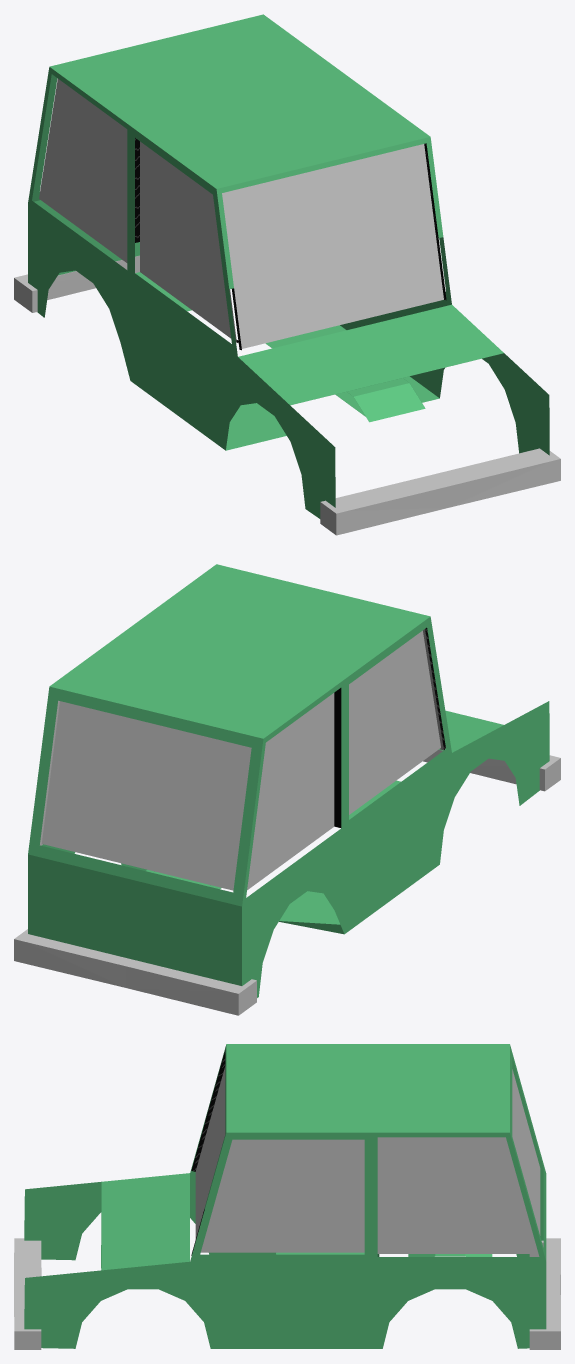
Rendered from box_car.obj.
3 renders of one model, top to bottom at view 1: azimuth 30°, elevation 25°; view 2: azimuth 150°, elevation 25°; view 3: azimuth 270°, elevation 25°, orthographic. The views are drawn at different scales.
Visible parts, largest first — view 1: Car; view 2: Car; view 3: Car.
Boxes of the visible parts, x1,y1,x2,y2 form: Car: (14,14,560,535); Car: (14,564,560,1015); Car: (14,1044,560,1349).
Size of the model in its own units: 0.633 by 0.5026 by 1.15.
